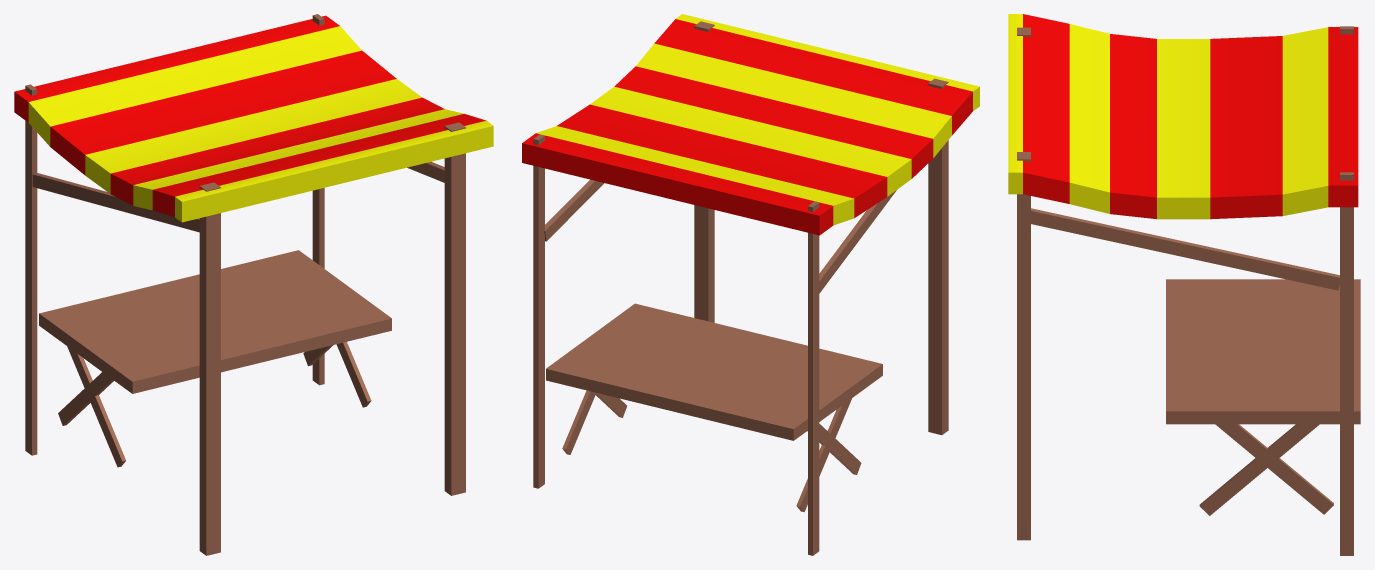
Rendered from low_poly_market_stall_1.glb.
3 renders of one model, left to right at view 1: azimuth 30°, elevation 25°; view 2: azimuth 150°, elevation 25°; view 3: azimuth 270°, elevation 25°, orthographic. The views are drawn at different scales.
Visible parts, largest first — view 1: pCube8, pCube1, pCube7, pCube6, pCube10, pCube11, pCube9, pCube2, pCube3, pCube4; view 2: pCube8, pCube1, pCube6, pCube9, pCube10, pCube7, pCube11, pCube12, pCube3, pCube2, pCube5; view 3: pCube8, pCube1, pCube12, pCube9, pCube7, pCube4, pCube5.
Part boxes in pixels (bbox=[...]): pCube8: bbox=[14, 15, 493, 222]; pCube1: bbox=[39, 250, 391, 393]; pCube7: bbox=[444, 122, 465, 495]; pCube6: bbox=[199, 182, 220, 555]; pCube10: bbox=[25, 84, 37, 455]; pCube11: bbox=[32, 173, 199, 232]; pCube9: bbox=[312, 14, 324, 385]; pCube2: bbox=[67, 346, 125, 467]; pCube3: bbox=[58, 372, 113, 425]; pCube4: bbox=[336, 342, 371, 407]; pCube8: bbox=[522, 14, 979, 235]; pCube1: bbox=[546, 303, 882, 440]; pCube6: bbox=[928, 78, 948, 434]; pCube9: bbox=[533, 134, 544, 488]; pCube10: bbox=[808, 201, 819, 555]; pCube7: bbox=[694, 21, 714, 322]; pCube11: bbox=[819, 190, 896, 293]; pCube12: bbox=[544, 179, 604, 241]; pCube3: bbox=[796, 398, 851, 512]; pCube2: bbox=[807, 424, 861, 474]; pCube5: bbox=[562, 390, 596, 454]; pCube8: bbox=[1008, 14, 1358, 219]; pCube1: bbox=[1166, 279, 1360, 424]; pCube12: bbox=[1031, 208, 1339, 290]; pCube9: bbox=[1340, 172, 1353, 555]; pCube7: bbox=[1017, 152, 1030, 540]; pCube4: bbox=[1199, 424, 1319, 515]; pCube5: bbox=[1215, 424, 1333, 514].
Bounding box in the file's own units: 15.77 × 18.06 × 14.8.
